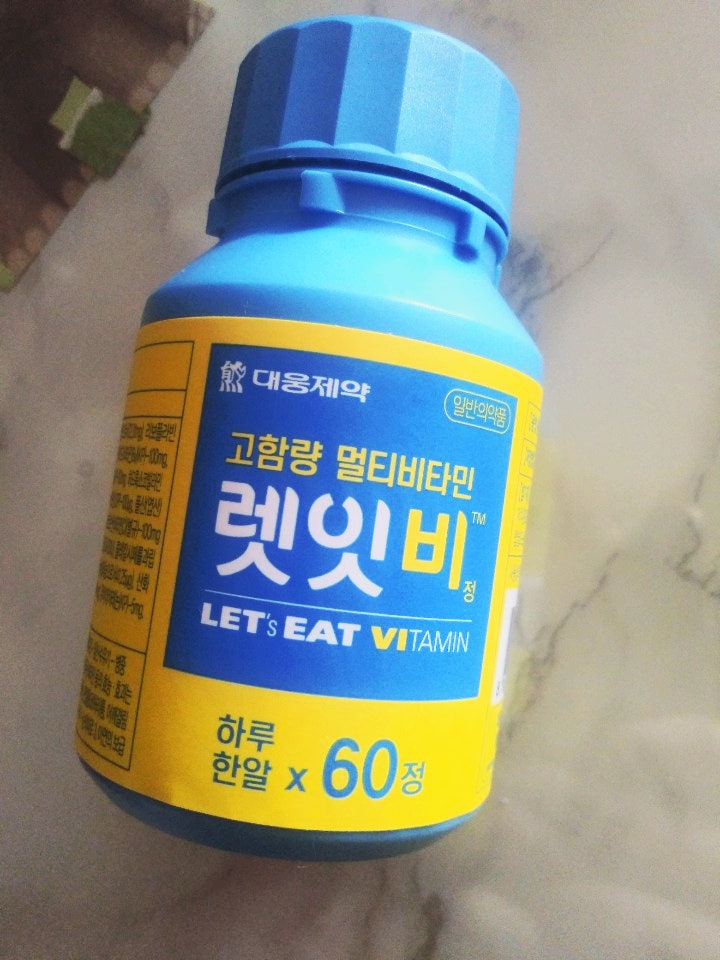supplement_label: (71, 302, 555, 840)
